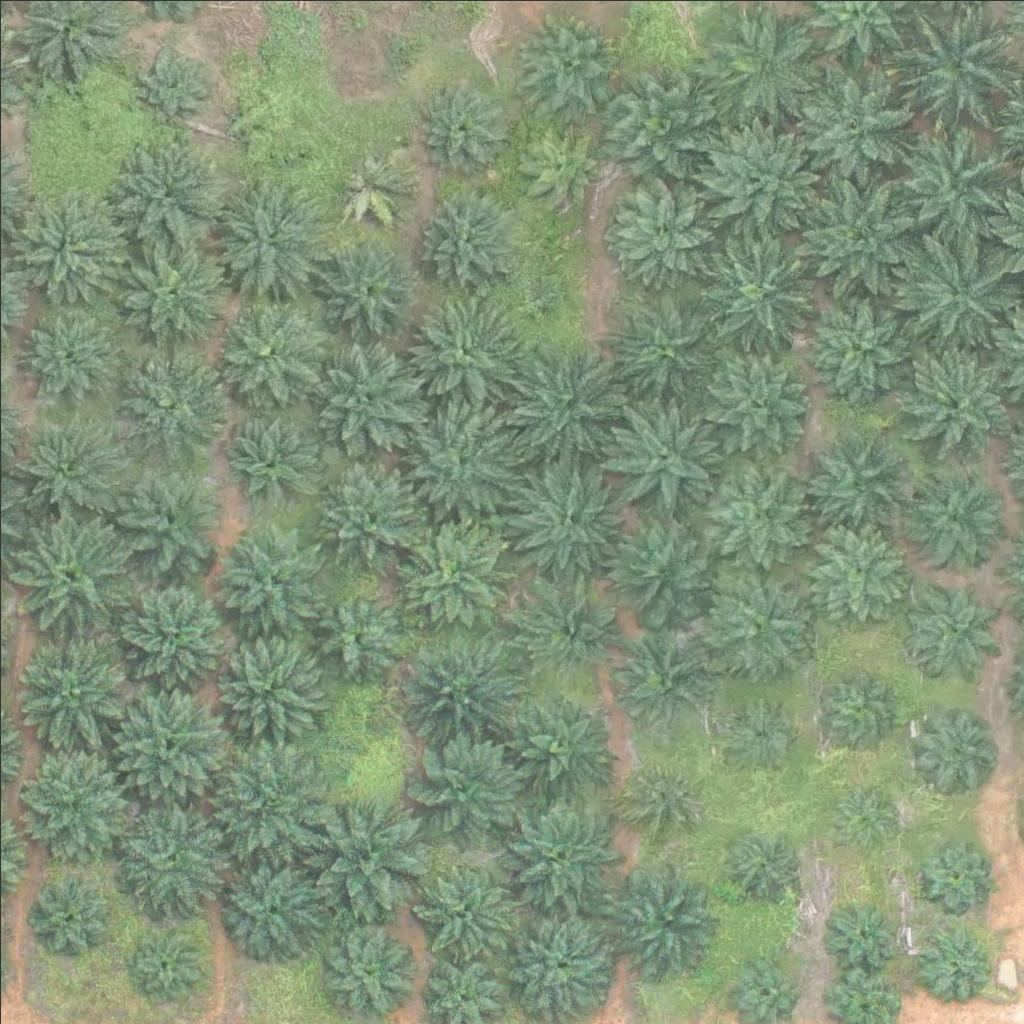Kelapa_Sawit: (604, 856, 729, 982), (602, 390, 727, 516), (497, 795, 622, 921), (402, 725, 527, 851), (305, 792, 430, 918), (202, 733, 327, 859), (108, 568, 233, 694), (7, 626, 132, 752), (8, 511, 133, 637), (604, 168, 729, 294), (599, 66, 724, 192), (700, 228, 825, 354), (703, 119, 828, 245), (706, 2, 831, 128), (802, 285, 927, 411), (797, 175, 922, 301), (797, 65, 922, 191), (890, 335, 1015, 461), (893, 227, 1018, 353), (895, 126, 1020, 252), (895, 2, 1020, 128), (208, 627, 321, 741), (116, 342, 229, 456), (606, 512, 719, 625), (510, 458, 623, 571), (210, 523, 323, 636), (217, 405, 330, 518), (116, 457, 229, 570), (16, 746, 129, 859), (6, 183, 119, 296), (116, 234, 229, 347), (112, 133, 225, 246), (408, 298, 521, 411), (412, 185, 525, 298), (514, 346, 627, 459), (114, 689, 226, 803), (9, 410, 121, 524), (701, 572, 813, 685), (699, 457, 811, 570), (501, 686, 613, 799), (514, 570, 626, 683), (402, 633, 514, 746), (397, 514, 509, 627), (404, 404, 516, 517), (316, 459, 428, 572), (119, 805, 231, 918), (212, 294, 324, 407), (213, 180, 325, 293), (312, 343, 424, 456), (610, 293, 722, 406), (701, 341, 813, 454), (512, 917, 612, 1018), (414, 77, 514, 178), (509, 117, 609, 218), (901, 579, 1001, 679), (899, 464, 999, 564), (808, 518, 908, 618), (809, 430, 909, 530), (413, 861, 513, 961), (223, 855, 323, 955), (21, 300, 121, 400), (518, 19, 618, 119), (328, 140, 416, 229), (908, 705, 996, 793), (813, 662, 901, 750), (311, 592, 399, 680), (321, 240, 409, 328), (617, 639, 704, 727), (326, 926, 413, 1014), (127, 921, 202, 997), (623, 759, 698, 834), (30, 878, 105, 953), (915, 926, 990, 1001), (915, 834, 990, 909), (827, 890, 902, 965), (726, 823, 801, 898), (720, 693, 795, 768), (134, 45, 209, 120), (834, 783, 896, 846)
